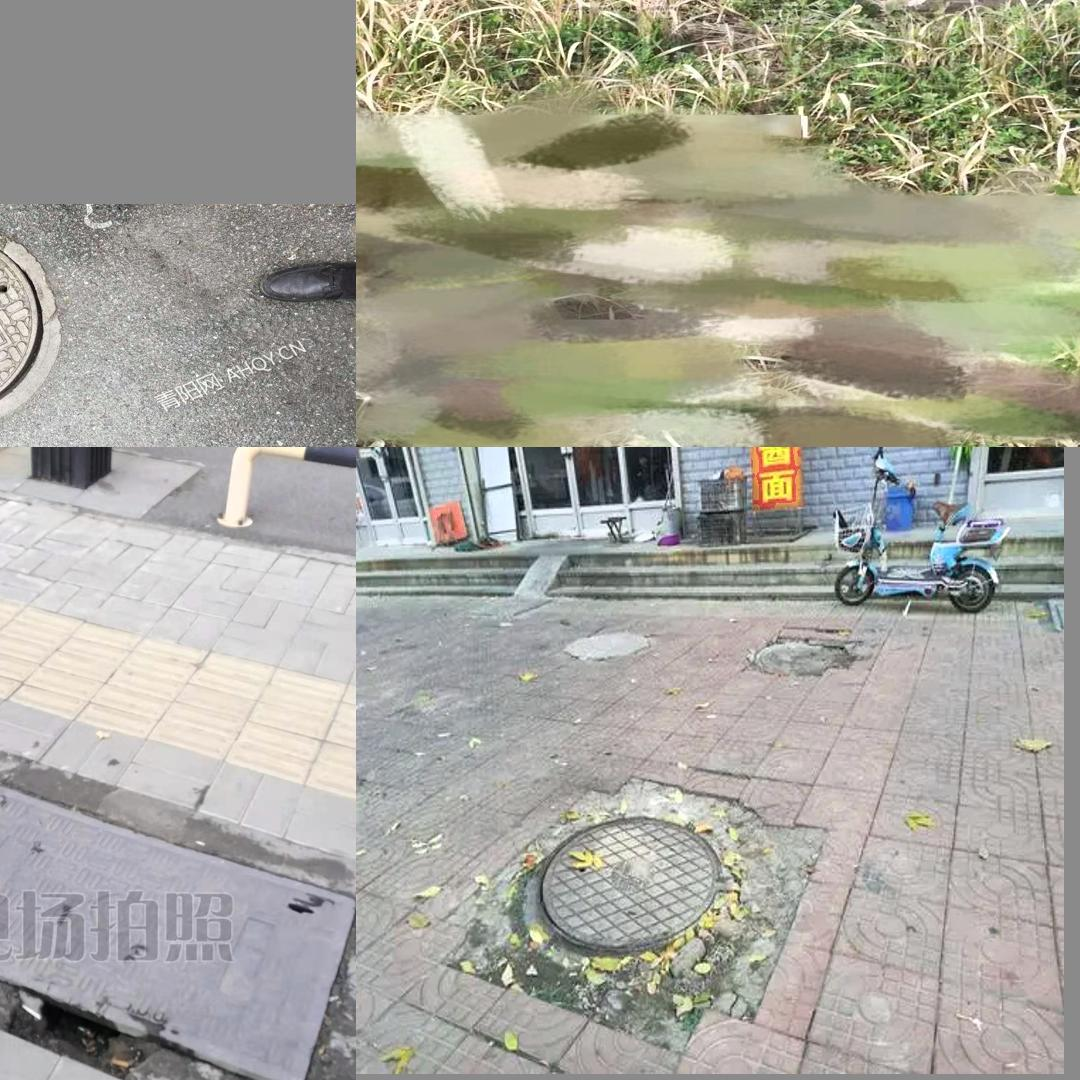circle: (0, 742, 356, 1080), (469, 776, 810, 1043), (0, 213, 80, 437), (594, 0, 1080, 12)
